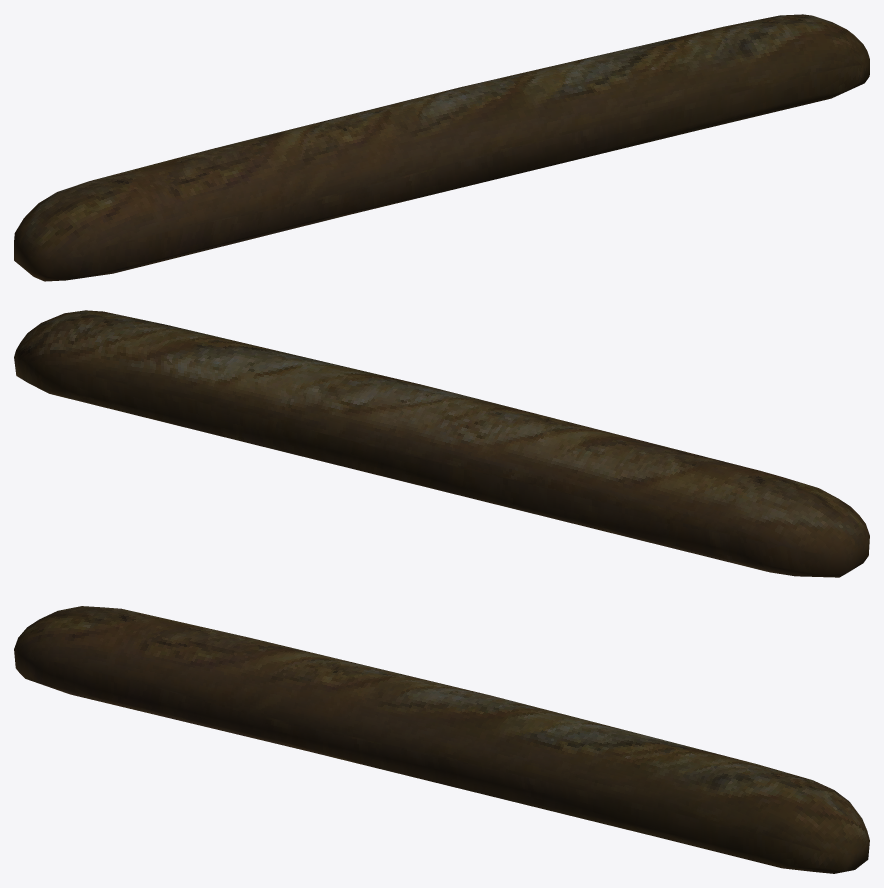
File: melee_stale_baguette_mx_1.glb
3 views of the same model, one above another, from view 1: azimuth 30°, elevation 25°; view 2: azimuth 150°, elevation 25°; view 3: azimuth 330°, elevation 25° (orthographic).
Parts seen in each view (by area): view 1: melee_stale_baguette_mx_1; view 2: melee_stale_baguette_mx_1; view 3: melee_stale_baguette_mx_1.
Part boxes in pixels (bbox=[...]): melee_stale_baguette_mx_1: bbox=[14, 14, 869, 281]; melee_stale_baguette_mx_1: bbox=[14, 310, 869, 577]; melee_stale_baguette_mx_1: bbox=[14, 606, 869, 873].
Bounding box in the file's own units: 0.7769 × 0.0678 × 0.093.
1 material, 1 textured.
